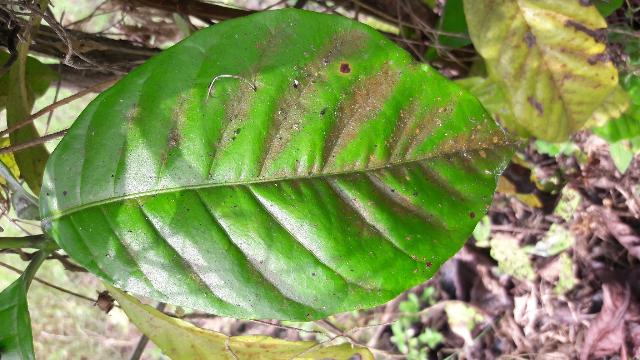red_spider_mite: (38, 11, 520, 322)
